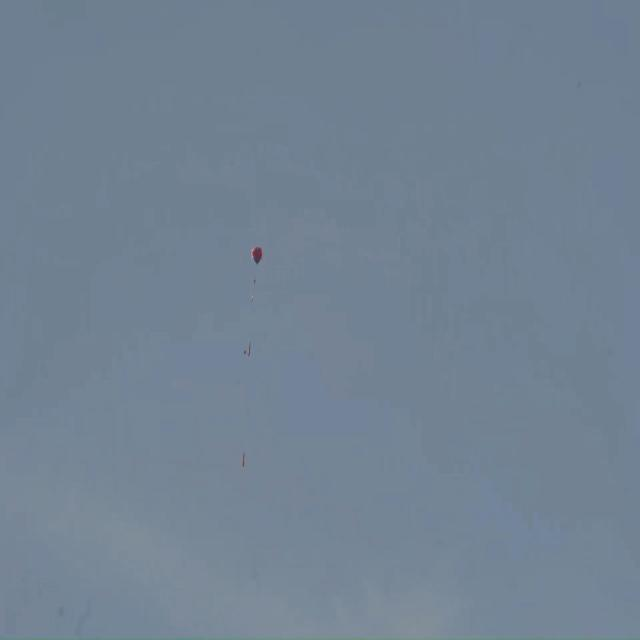Rocket: (242, 451, 245, 467)
